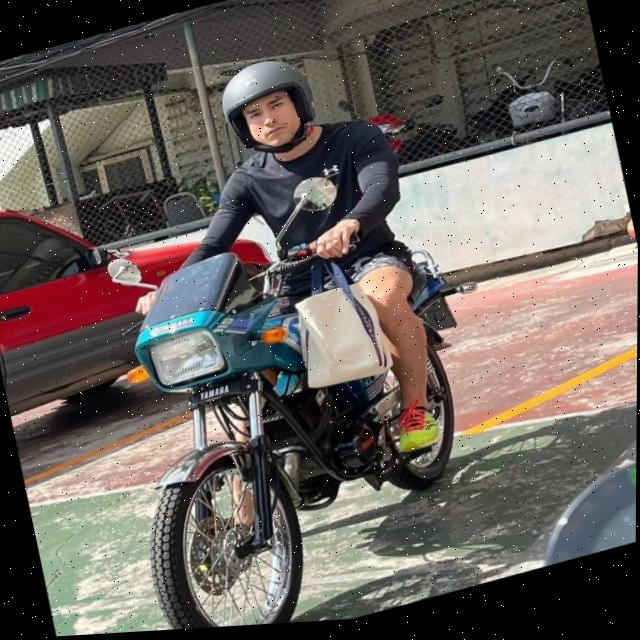helmet: (209, 48, 328, 174)
